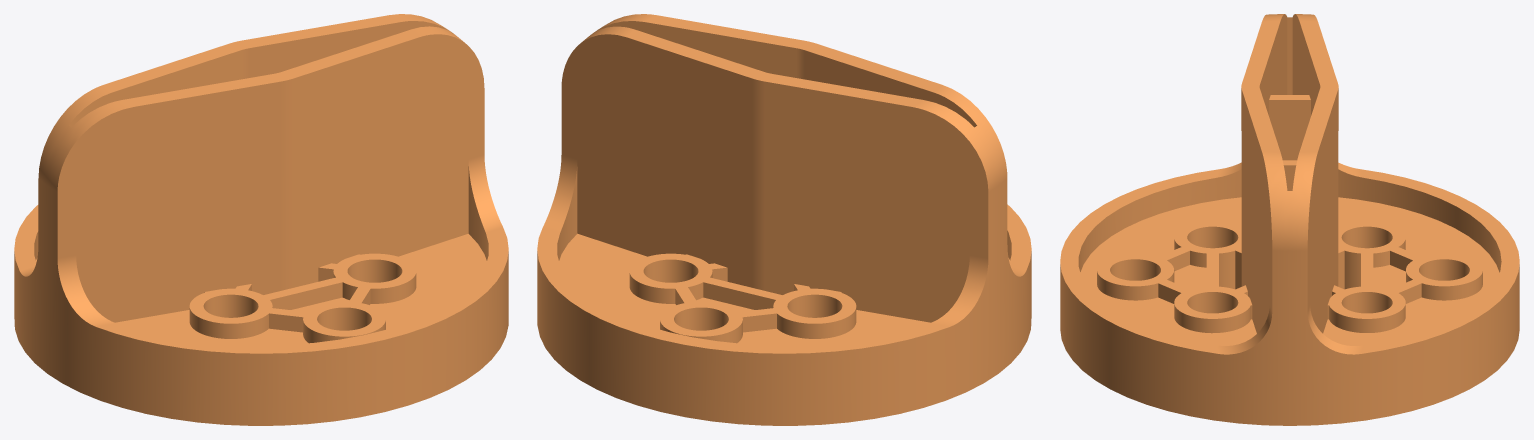
3 renders of one model, left to right at view 1: azimuth 30°, elevation 25°; view 2: azimuth 150°, elevation 25°; view 3: azimuth 270°, elevation 25°, orthographic. The views are drawn at different scales.
Parts seen in each view (by area): view 1: main_ff671f; view 2: main_ff671f; view 3: main_ff671f.
Boxes of the visible parts, box(x1,y1,x2,y2) form: main_ff671f: box(14, 14, 508, 425); main_ff671f: box(537, 14, 1031, 425); main_ff671f: box(1060, 14, 1519, 425).
Bounding box in the file's own units: 37.8 × 22.1 × 37.8.
